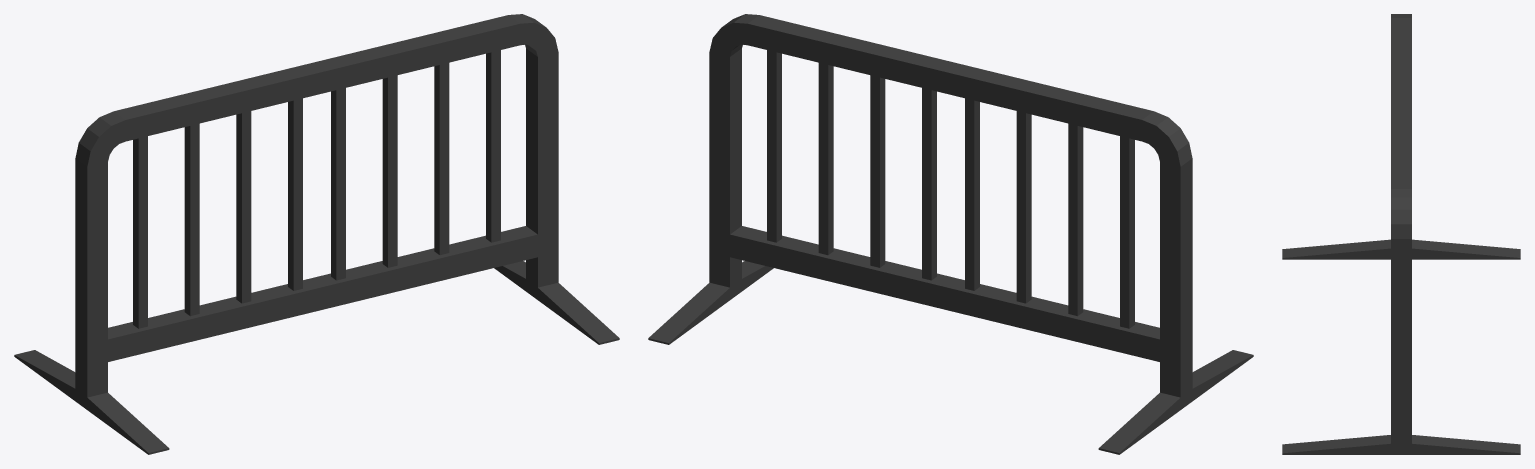
File: Road barrier.fbx
3 renders of one model, left to right at view 1: azimuth 30°, elevation 25°; view 2: azimuth 150°, elevation 25°; view 3: azimuth 270°, elevation 25°, orthographic. The views are drawn at different scales.
Visible parts, largest first — view 1: Road barrier; view 2: Road barrier; view 3: Road barrier.
Boxes of the visible parts, x1,y1,x2,y2 form: Road barrier: (14,14,619,454); Road barrier: (648,14,1253,454); Road barrier: (1282,14,1520,454).
Size of the model in its own units: 214 by 122 by 106.
